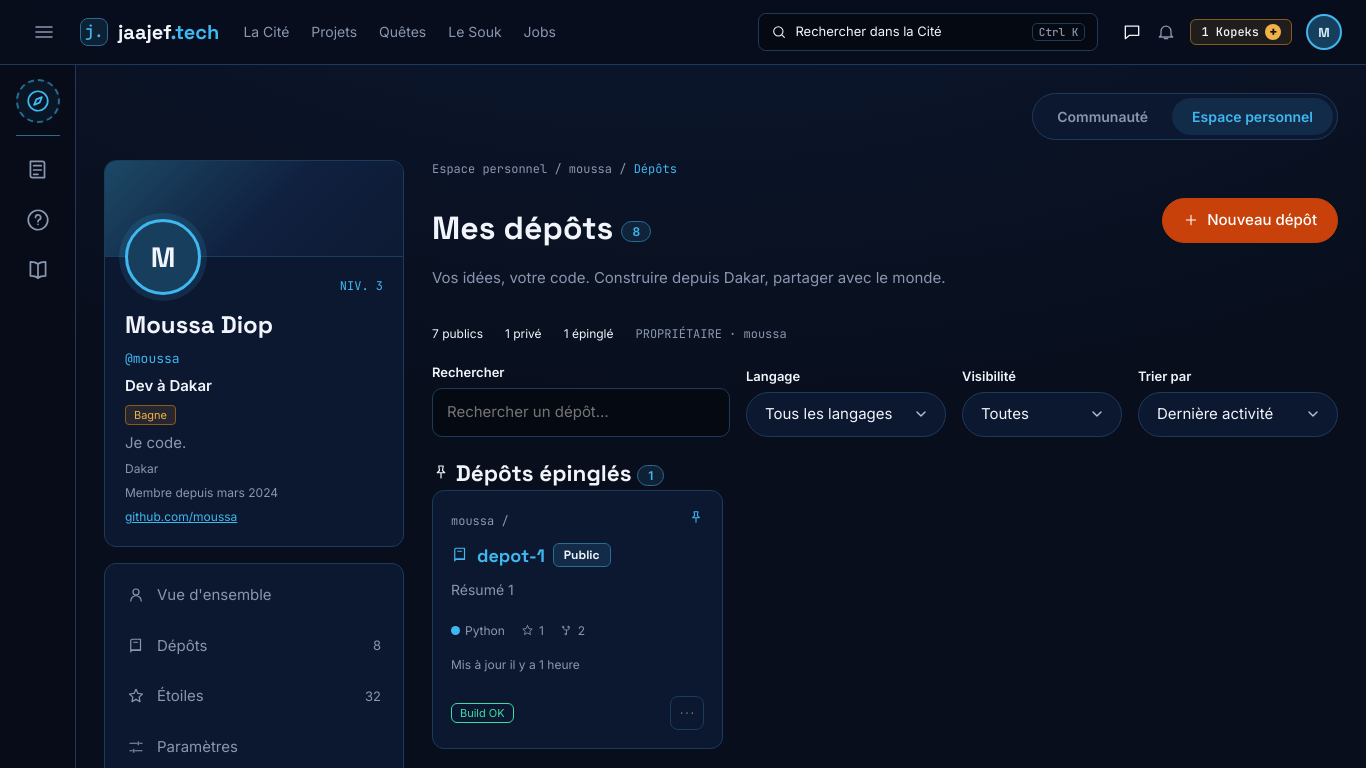
My repositories › searches, filters by language, and says when nothing matches
Expected: the text "7 publics" is shown, [432,324,483,342]
Select "TypeScript" in the dropdown labelled "Langage" at [846, 414], box [746,392,946,436]
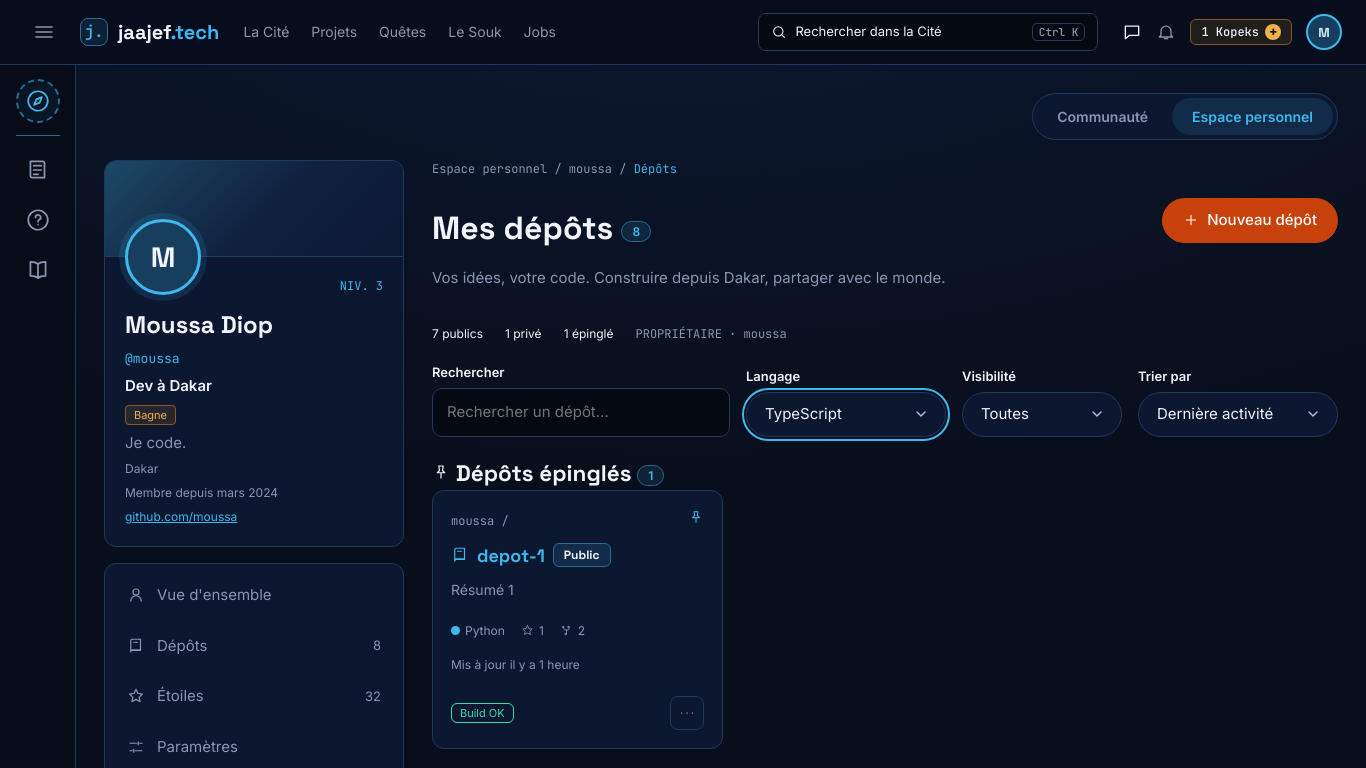
Type "zzz" into the search field labelled "Rechercher" at [581, 412], box [432,388,730,436]
(page scrolled)
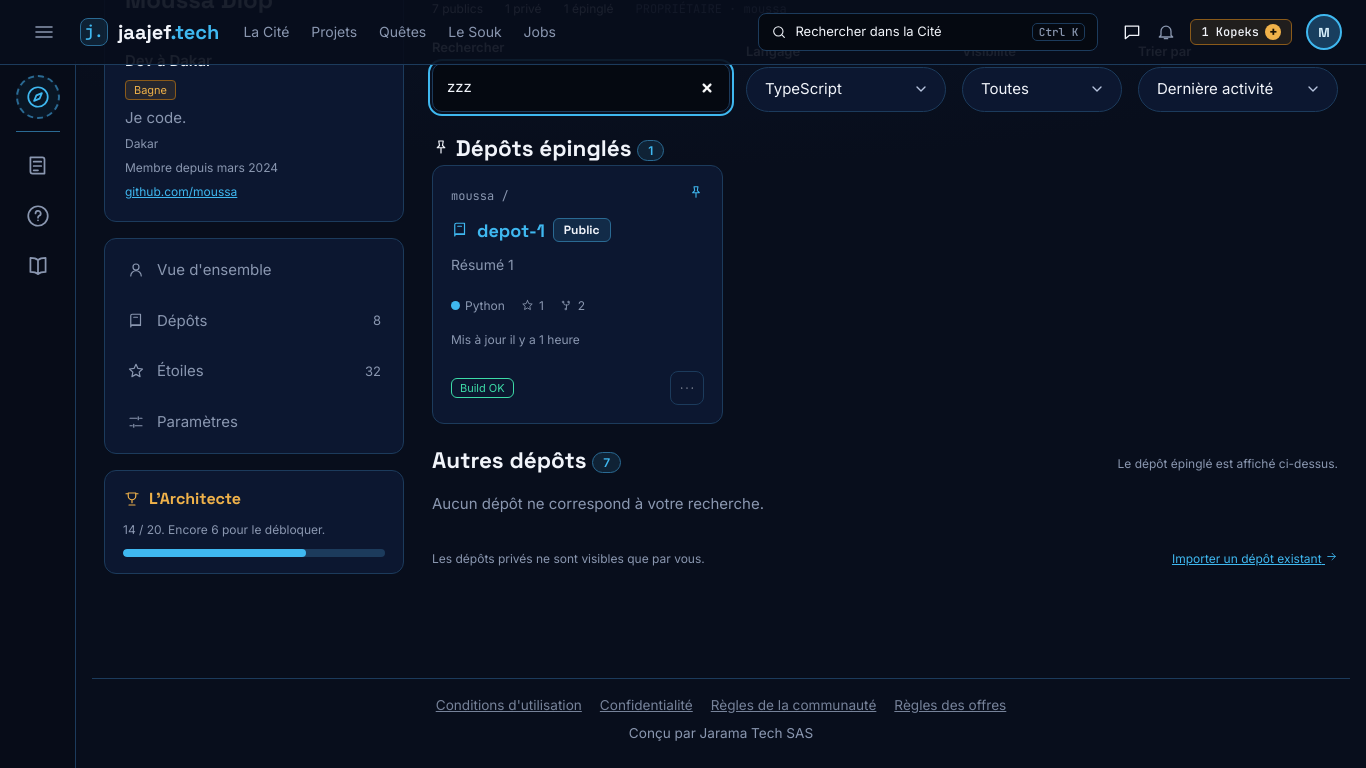
Expected: the text "Aucun dépôt ne correspond à votre recherche." is shown, [432,494,764,512]
